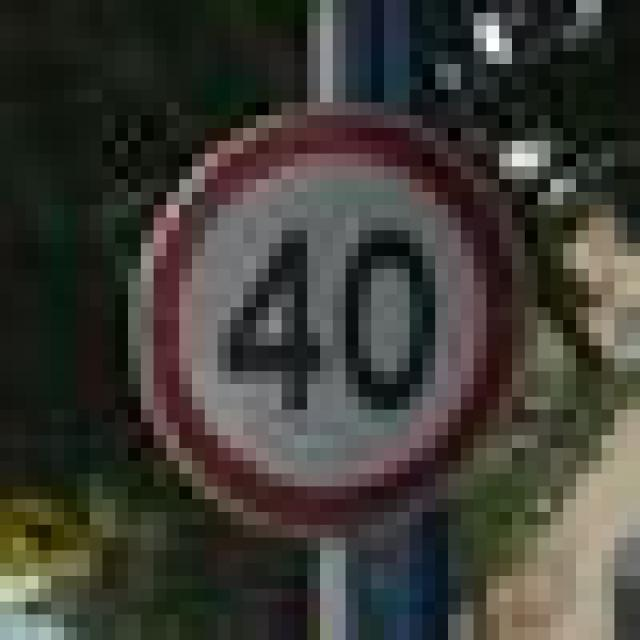SPEED_LIMIT_40: (90, 77, 512, 525)
